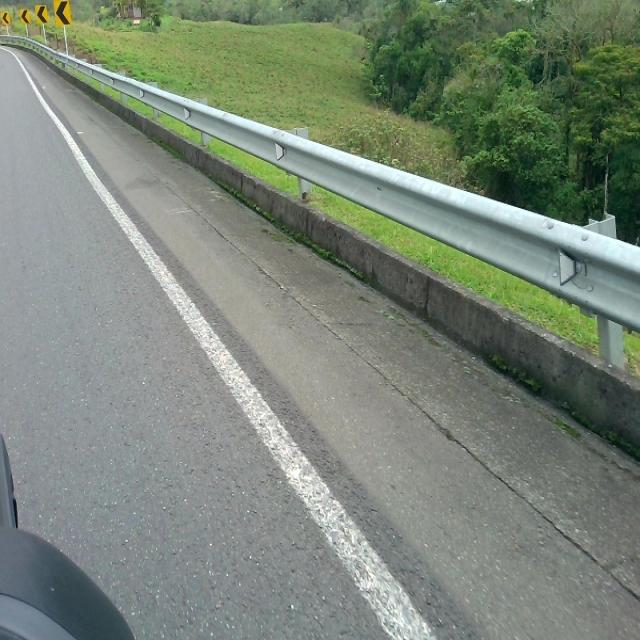DITCH: (1, 37, 638, 638), (1, 46, 638, 638)
